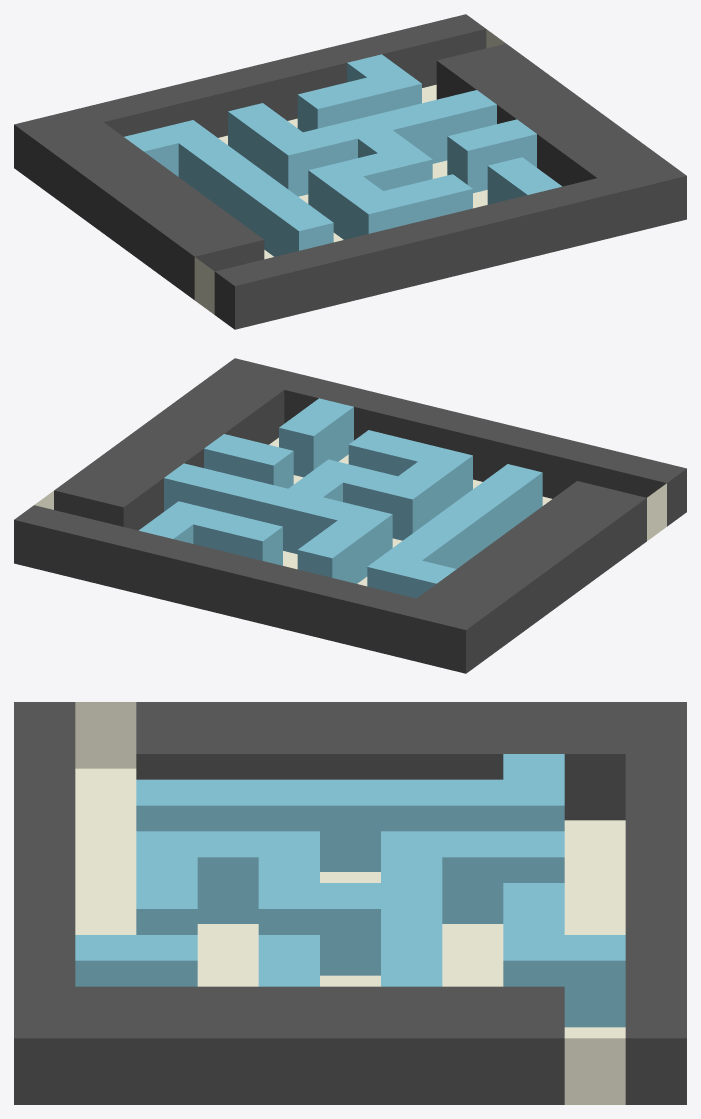
File: mazev3.dae
3 renders of one model, top to bottom at view 1: azimuth 30°, elevation 25°; view 2: azimuth 150°, elevation 25°; view 3: azimuth 270°, elevation 25°, orthographic. The views are drawn at different scales.
Visible parts, largest first — view 1: 平面; view 2: 平面; view 3: 平面.
Boxes of the visible parts, bbox=[...] form: 平面: bbox=[14, 14, 686, 329]; 平面: bbox=[14, 358, 686, 673]; 平面: bbox=[14, 702, 686, 1104].
Size of the model in its own units: 16.25 by 13.75 by 1.5.
